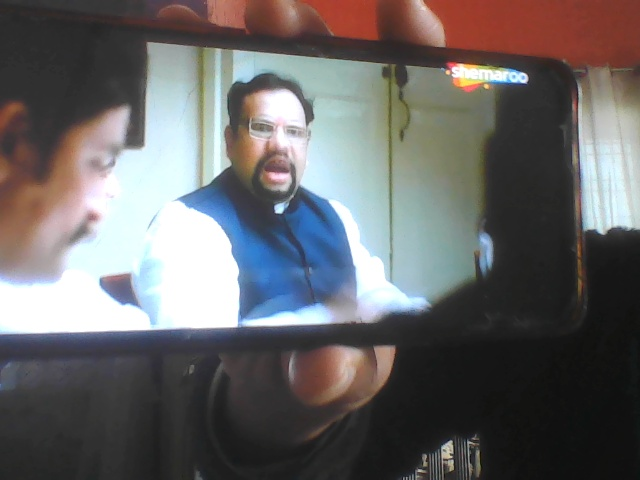fake: (212, 55, 323, 213)
